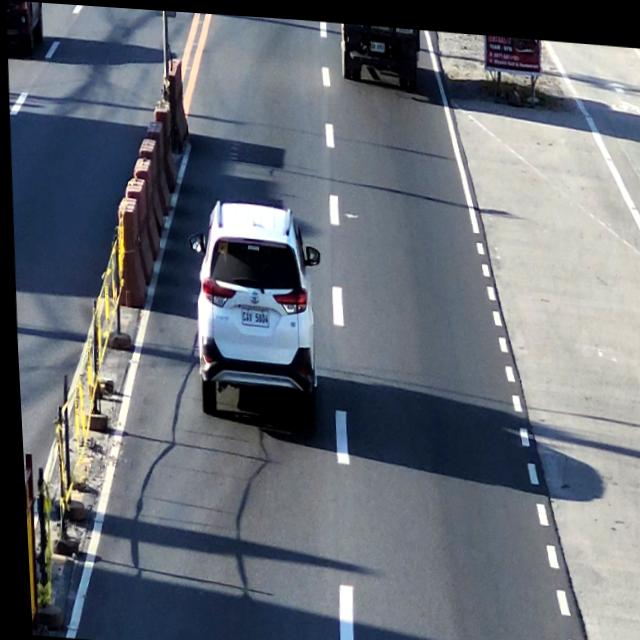Car: (190, 199, 313, 423)
License-Plate: (237, 303, 266, 325), (366, 34, 386, 48)
Truck: (338, 18, 421, 84)
